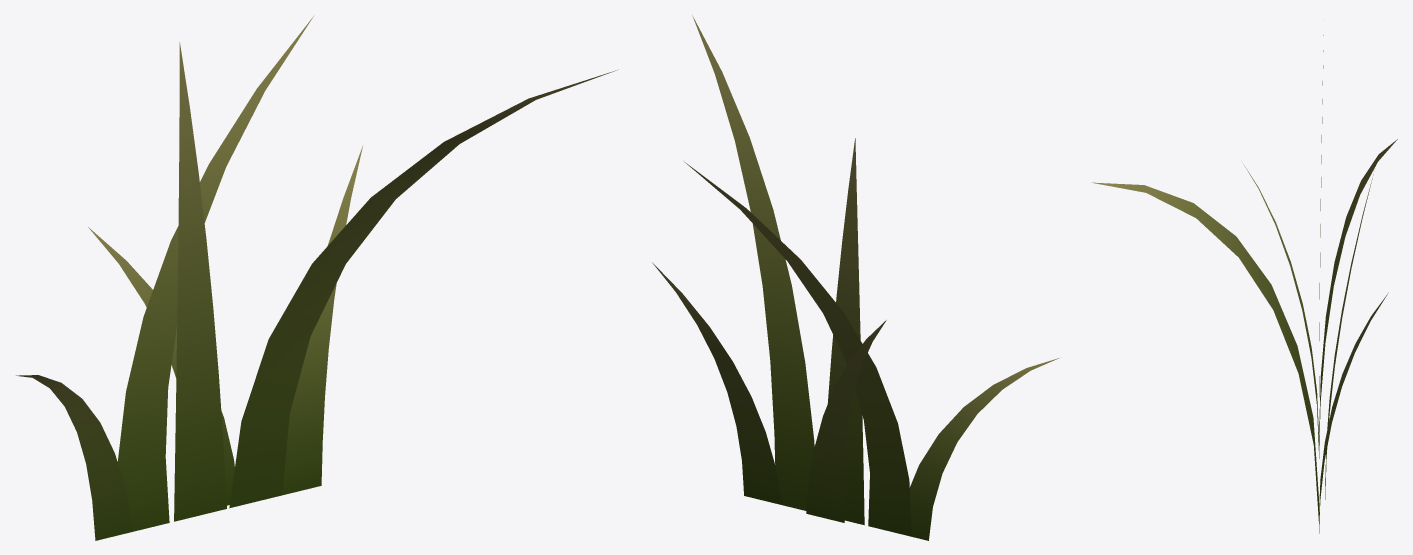
The model's file is GrassClump01.fbx.
3 views of the same model, side by side, from view 1: azimuth 30°, elevation 25°; view 2: azimuth 150°, elevation 25°; view 3: azimuth 270°, elevation 25° (orthographic). The views are drawn at different scales.
Visible parts, largest first — view 1: GrassClump; view 2: GrassClump; view 3: GrassClump.
Part boxes in pixels (box(x1,y1,x2,y2)): GrassClump: box(16, 15, 618, 540); GrassClump: box(652, 15, 1059, 540); GrassClump: box(1092, 35, 1397, 533).
Size of the model in its own units: 99.11 by 85.11 by 51.57.
